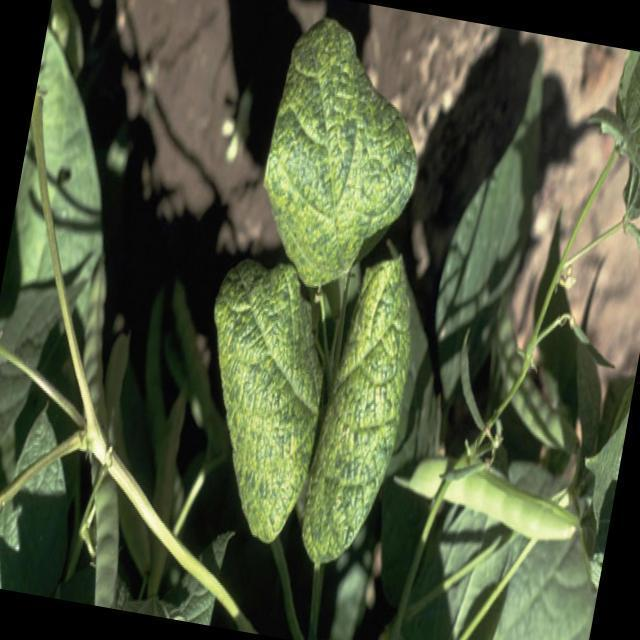Mosaic Virus: (168, 274, 337, 568), (245, 31, 431, 295), (292, 270, 424, 570)
